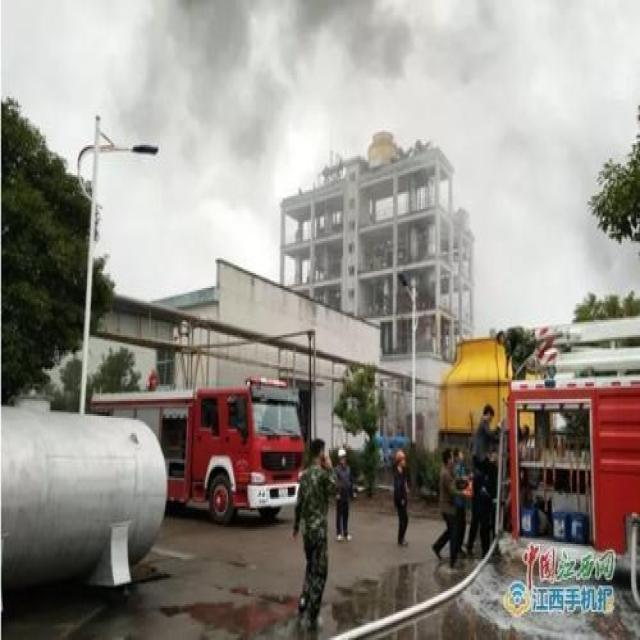Smoke: (375, 0, 639, 327), (111, 0, 425, 229)
